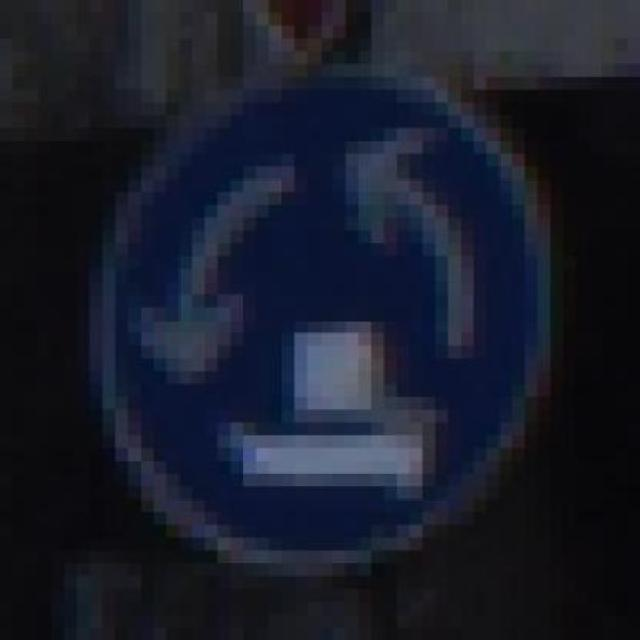Round-About: (102, 51, 564, 602)
